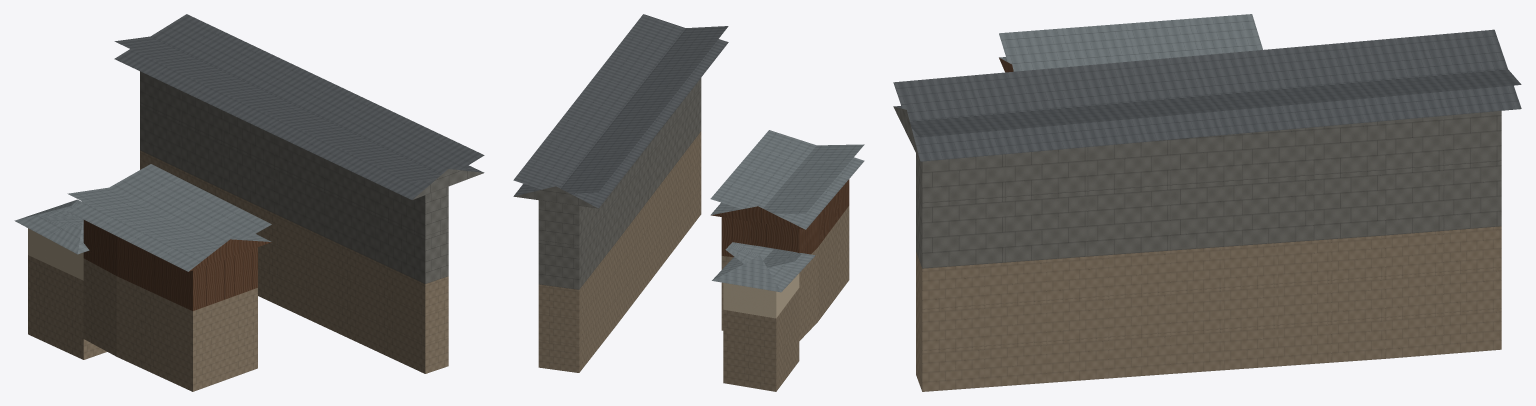
File: bld_c31_47_247.gltf
The picture shows the model from 3 angles, left to right: view 1: azimuth 30°, elevation 25°; view 2: azimuth 150°, elevation 25°; view 3: azimuth 270°, elevation 25°; orthographic projection. The views are drawn at different scales.
Visible parts, largest first — view 1: bld_c31_47_247; view 2: bld_c31_47_247; view 3: bld_c31_47_247.
Boxes of the visible parts, left/top/right/bottom form: bld_c31_47_247: left=14, top=14, right=484, bottom=391; bld_c31_47_247: left=513, top=14, right=864, bottom=391; bld_c31_47_247: left=893, top=14, right=1521, bottom=391.
Bounding box in the file's own units: 18.38 × 12.5 × 23.55.
Materials: 8 (8 with a texture image).
